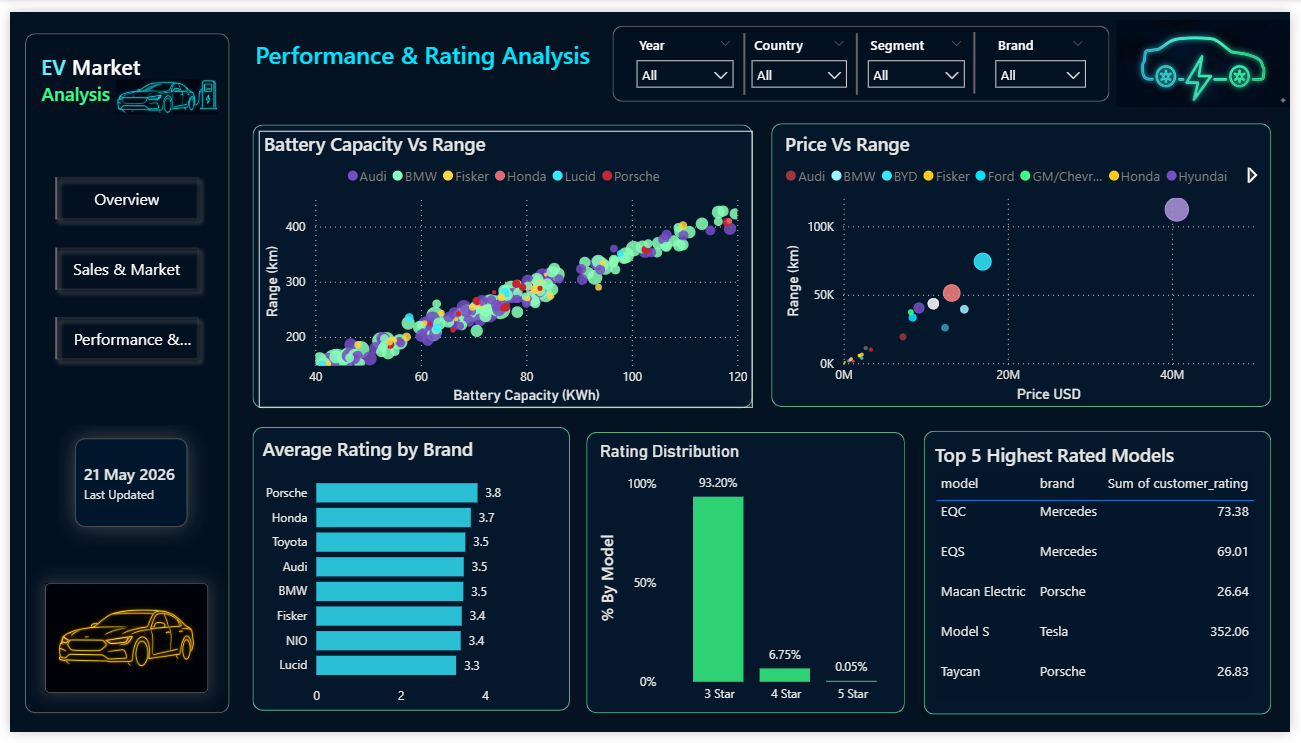

What the dashboard file says about the page in this screenshot:
{"tool":"powerbi","page":{"name":"Performance & Rating","canvas":[1280,720],"ordinal":2},"visuals":[{"type":"shape","box":[15.6,21.1,204.4,680],"z":0},{"type":"textbox","box":[26.7,35.6,111.1,94.4],"z":1000},{"type":"shape","box":[602,13.3,497.1,76],"z":2000},{"type":"slicer","fields":{"Values":["ev_market_2026 (2).year"]},"box":[616.5,19.3,117,62.7],"z":3000},{"type":"slicer","fields":{"Values":["ev_market_2026 (2).market_segment"]},"box":[846.9,19.3,117,62.7],"z":4000},{"type":"slicer","fields":{"Values":["ev_market_2026 (2).country_of_origin"]},"box":[731.1,19.3,115.8,62.7],"z":5000},{"type":"slicer","fields":{"Values":["ev_market_2026 (2).brand"]},"box":[974.8,19.3,111,62.7],"z":6000},{"type":"shape","box":[698.5,21.7,71.2,61.5],"z":7000},{"type":"shape","box":[810.7,21.7,71.2,61.5],"z":8000},{"type":"shape","box":[929,20.5,71.2,61.5],"z":9000},{"type":"image","box":[1106.3,6,173.7,90.5],"z":10000},{"type":"pageNavigator","box":[36.2,156.8,161.7,200],"z":11000},{"type":"textbox","box":[233.8,21.2,360,76.2],"z":12000},{"type":"image","box":[106.2,60.3,101.3,49.5],"z":13000},{"type":"image","box":[35,570.6,162.9,109.8],"z":14000},{"type":"shape","box":[242.5,112.5,500,283.8],"z":15000},{"type":"shape","box":[242.5,415,317.5,283.8],"z":16000},{"type":"shape","box":[761.2,111.2,500,283.8],"z":17000},{"type":"shape","box":[576.2,420,318.8,281.2],"z":18000},{"type":"scatterChart","title":"Battery Capacity Vs Range","fields":{"X":["Avg(ev_market_2026 (2).battery_capacity_kwh)"],"Y":["ev_market_2026 (2).range_miles"],"Size":["ev_market_2026 (2).Total Sales"],"Series":["ev_market_2026 (2).brand"]},"box":[248.8,118.8,493.8,277.5],"z":19000},{"type":"scatterChart","title":"Price Vs Range ","fields":{"X":["Sum(ev_market_2026 (2).price_usd)"],"Y":["Sum(ev_market_2026 (2).range_miles)"],"Size":["ev_market_2026 (2).Total Sales"],"Series":["ev_market_2026 (2).brand"]},"box":[770,118.8,491.2,276.2],"z":20000},{"type":"clusteredBarChart","title":"Average Rating by Brand","fields":{"Y":["Avg(ev_market_2026 (2).customer_rating)"],"Category":["ev_market_2026 (2).brand"]},"box":[247.5,423.8,312.5,278.8],"z":21000},{"type":"clusteredColumnChart","title":"Rating Distribution","fields":{"Category":["ev_market_2026 (2).Rating Category"],"Y":["CountNonNull(ev_market_2026 (2).model)"]},"box":[585,428.8,316.2,271.2],"z":22000},{"type":"shape","box":[913.8,418.8,347.5,283.8],"z":23000},{"type":"tableEx","title":"Top 5 Highest Rated Models","fields":{"Values":["ev_market_2026 (2).model","ev_market_2026 (2).brand","Sum(ev_market_2026 (2).customer_rating)"]},"box":[920,430,341.2,270],"z":24000},{"type":"shape","box":[45,406.2,152.5,128.8],"z":25000},{"type":"cardVisual","fields":{"Data":["ev_market_2026 (2).Last Updated"]},"box":[45,420,152.5,101.2],"z":26000}]}

Visuals, with their boxes in screenshot pixels (x1, y1, x2, y2), scaled from the page's 1280x720 canvas onto the 1301x743 screenshot:
shape: x1=16, y1=22, x2=224, y2=723
textbox: x1=27, y1=37, x2=140, y2=134
shape: x1=612, y1=14, x2=1117, y2=92
slicer - ev_market_2026 (2).year: x1=627, y1=20, x2=746, y2=85
slicer - ev_market_2026 (2).market_segment: x1=861, y1=20, x2=980, y2=85
slicer - ev_market_2026 (2).country_of_origin: x1=743, y1=20, x2=861, y2=85
slicer - ev_market_2026 (2).brand: x1=991, y1=20, x2=1104, y2=85
shape: x1=710, y1=22, x2=782, y2=86
shape: x1=824, y1=22, x2=896, y2=86
shape: x1=944, y1=21, x2=1017, y2=85
image: x1=1124, y1=6, x2=1300, y2=100
pageNavigator: x1=37, y1=162, x2=201, y2=368
textbox: x1=238, y1=22, x2=604, y2=101
image: x1=108, y1=62, x2=211, y2=113
image: x1=36, y1=589, x2=201, y2=702
shape: x1=246, y1=116, x2=755, y2=409
shape: x1=246, y1=428, x2=569, y2=721
shape: x1=774, y1=115, x2=1282, y2=408
shape: x1=586, y1=433, x2=910, y2=724
"Battery Capacity Vs Range" scatterChart: x1=253, y1=123, x2=755, y2=409
"Price Vs Range " scatterChart: x1=783, y1=123, x2=1282, y2=408
"Average Rating by Brand" clusteredBarChart: x1=252, y1=437, x2=569, y2=725
"Rating Distribution" clusteredColumnChart: x1=595, y1=442, x2=916, y2=722
shape: x1=929, y1=432, x2=1282, y2=725
"Top 5 Highest Rated Models" tableEx: x1=935, y1=444, x2=1282, y2=722
shape: x1=46, y1=419, x2=201, y2=552
cardVisual - ev_market_2026 (2).Last Updated: x1=46, y1=433, x2=201, y2=538
